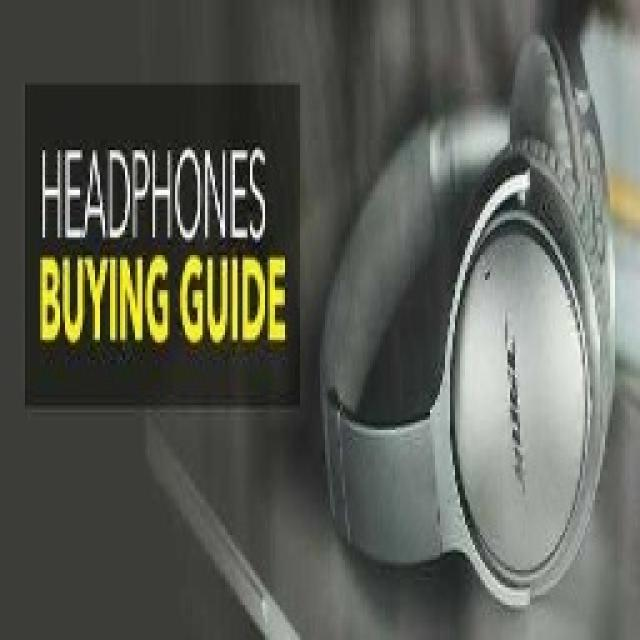headphones: (315, 22, 617, 608)
